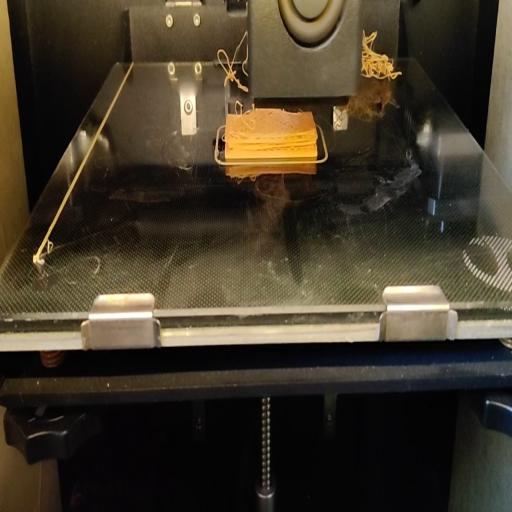spaghetti: (358, 31, 402, 83), (216, 32, 250, 90)
